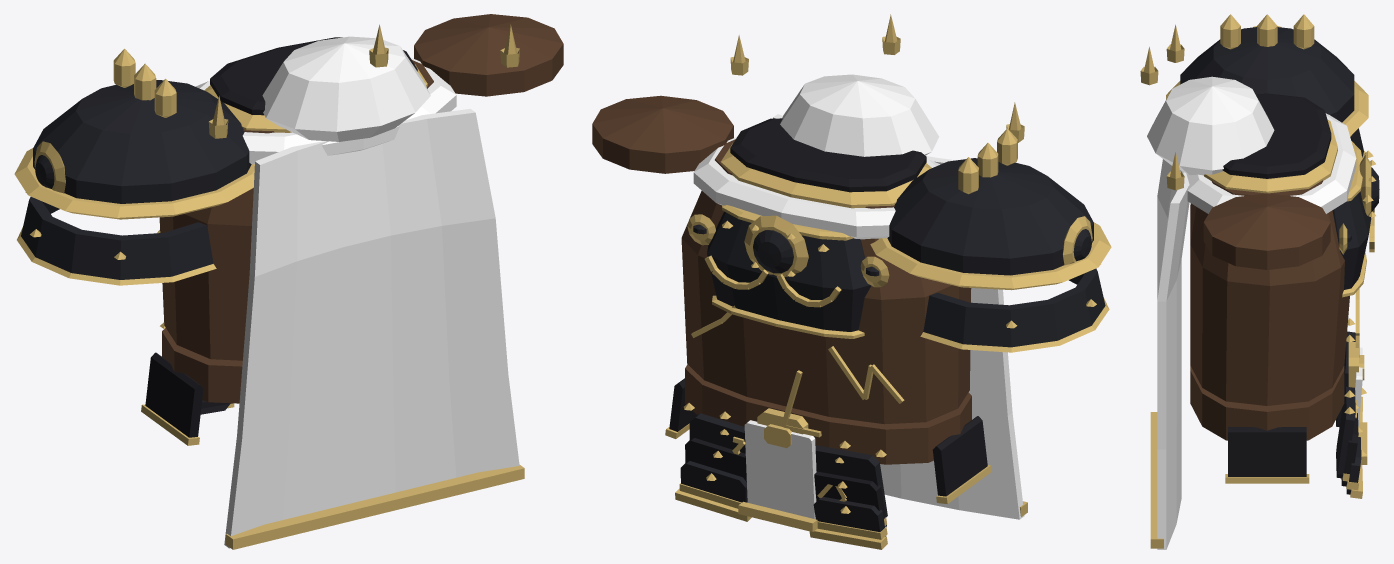
File: look3_armor_bow_transcendent.fbx
The picture shows the model from 3 angles, left to right: view 1: azimuth 30°, elevation 25°; view 2: azimuth 150°, elevation 25°; view 3: azimuth 270°, elevation 25°; orthographic projection. The views are drawn at different scales.
Parts seen in each view (by area): view 1: Main, Tasset; view 2: Main, Tasset; view 3: Main, Tasset.
Boxes of the visible parts, x1,y1,x2,y2 form: Main: [14, 14, 563, 549]; Tasset: [141, 352, 234, 445]; Main: [592, 14, 1111, 519]; Tasset: [665, 378, 991, 549]; Main: [1140, 14, 1379, 549]; Tasset: [1225, 331, 1367, 498].
Size of the model in its own units: 415 by 371 by 183.
